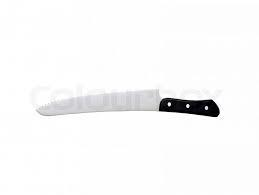Knife: (34, 87, 220, 117)
